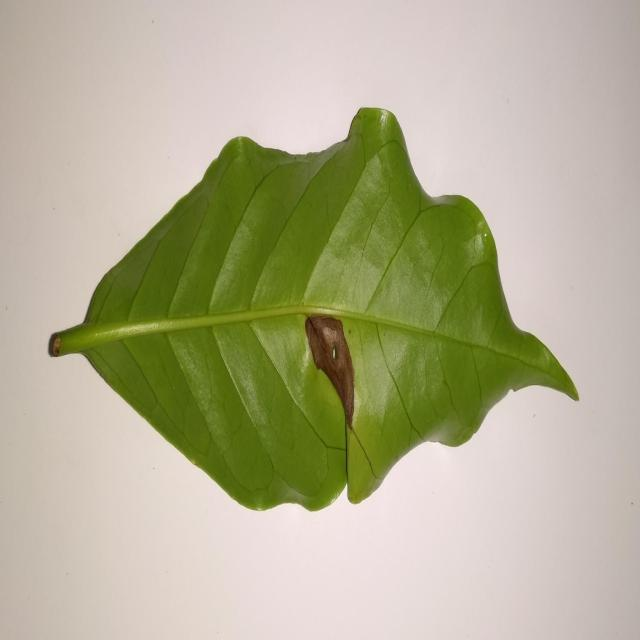Enfermedad-Antracnosis: (47, 108, 580, 515)
